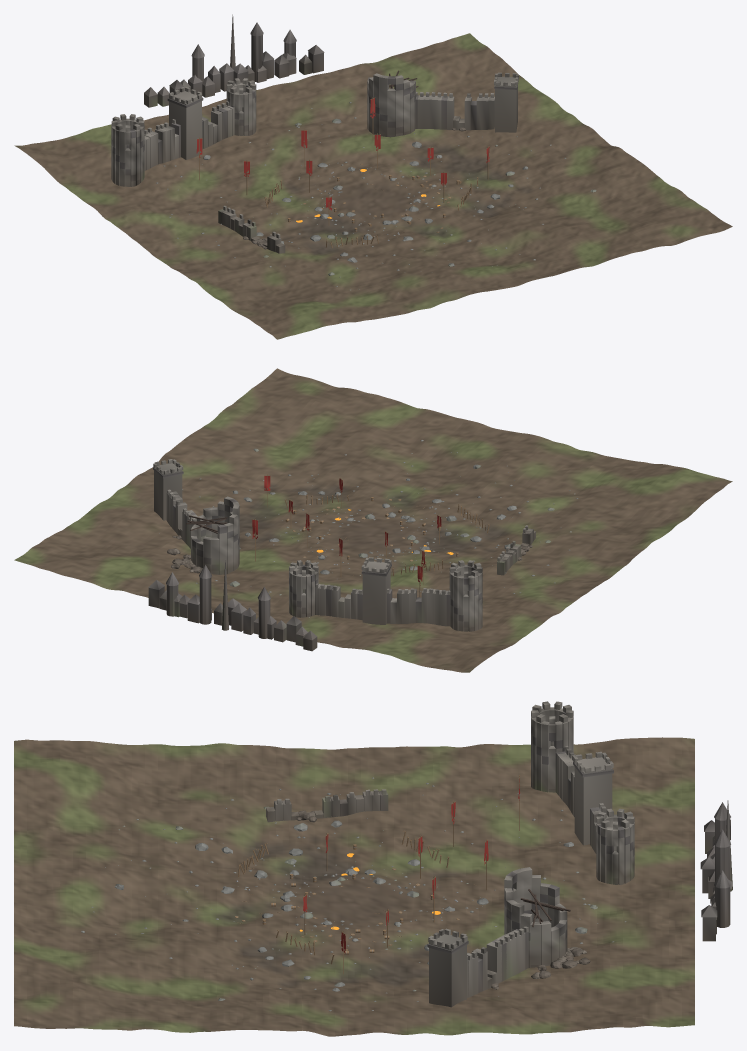
File: battlefield.glb
3 views of the same model, one above another, from view 1: azimuth 30°, elevation 25°; view 2: azimuth 150°, elevation 25°; view 3: azimuth 270°, elevation 25° (orthographic). The views are drawn at different scales.
Visible parts, largest first — view 1: terrain, castle_stone, castle_stone_dark, rocks, banner_cloth, banner_poles; view 2: terrain, castle_stone, castle_stone_dark, rocks, banner_cloth; view 3: terrain, castle_stone, castle_stone_dark, rocks, palisades, banner_cloth.
Boxes of the visible parts, x1,y1,x2,y2 form: terrain: (14, 33, 732, 339); castle_stone: (111, 72, 518, 253); castle_stone_dark: (111, 14, 518, 249); rocks: (156, 102, 596, 290); banner_cloth: (196, 98, 489, 210); banner_poles: (196, 97, 489, 225); terrain: (14, 368, 732, 672); castle_stone: (153, 459, 535, 631); castle_stone_dark: (148, 467, 532, 651); rocks: (159, 440, 578, 617); banner_cloth: (252, 476, 441, 585); terrain: (14, 737, 694, 1036); castle_stone: (266, 701, 634, 1007); castle_stone_dark: (292, 712, 732, 992); rocks: (81, 777, 626, 1011); palisades: (238, 830, 449, 964); banner_cloth: (303, 779, 519, 953).
Bounding box in the file's own units: 124 × 22.89 × 131.
